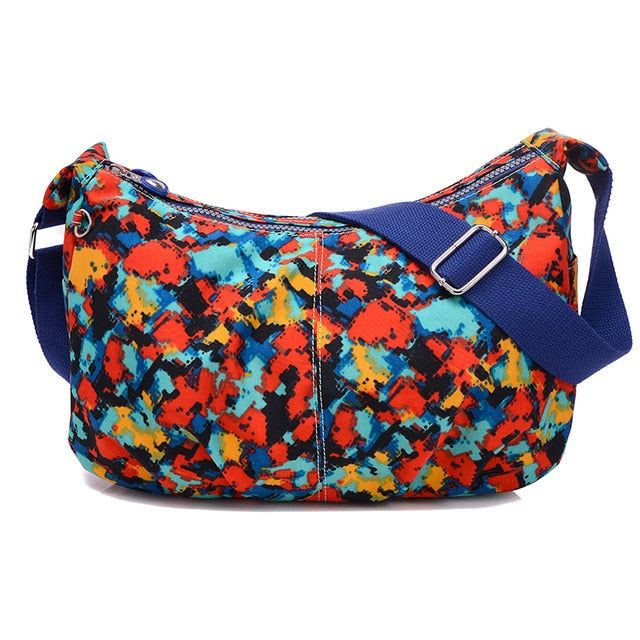nylon: (25, 127, 633, 506)
